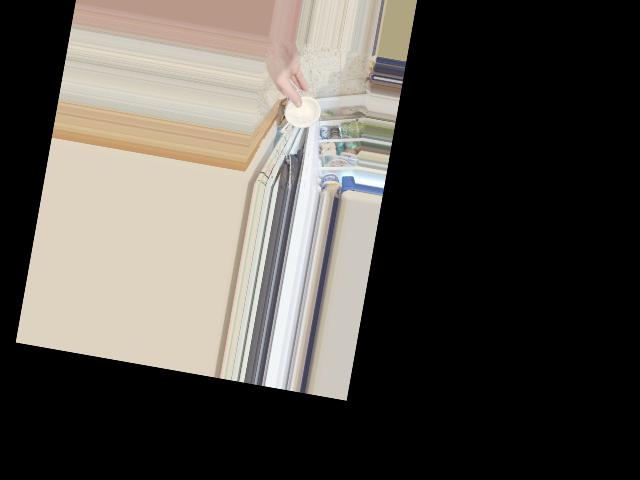cotage: (281, 84, 323, 135)
